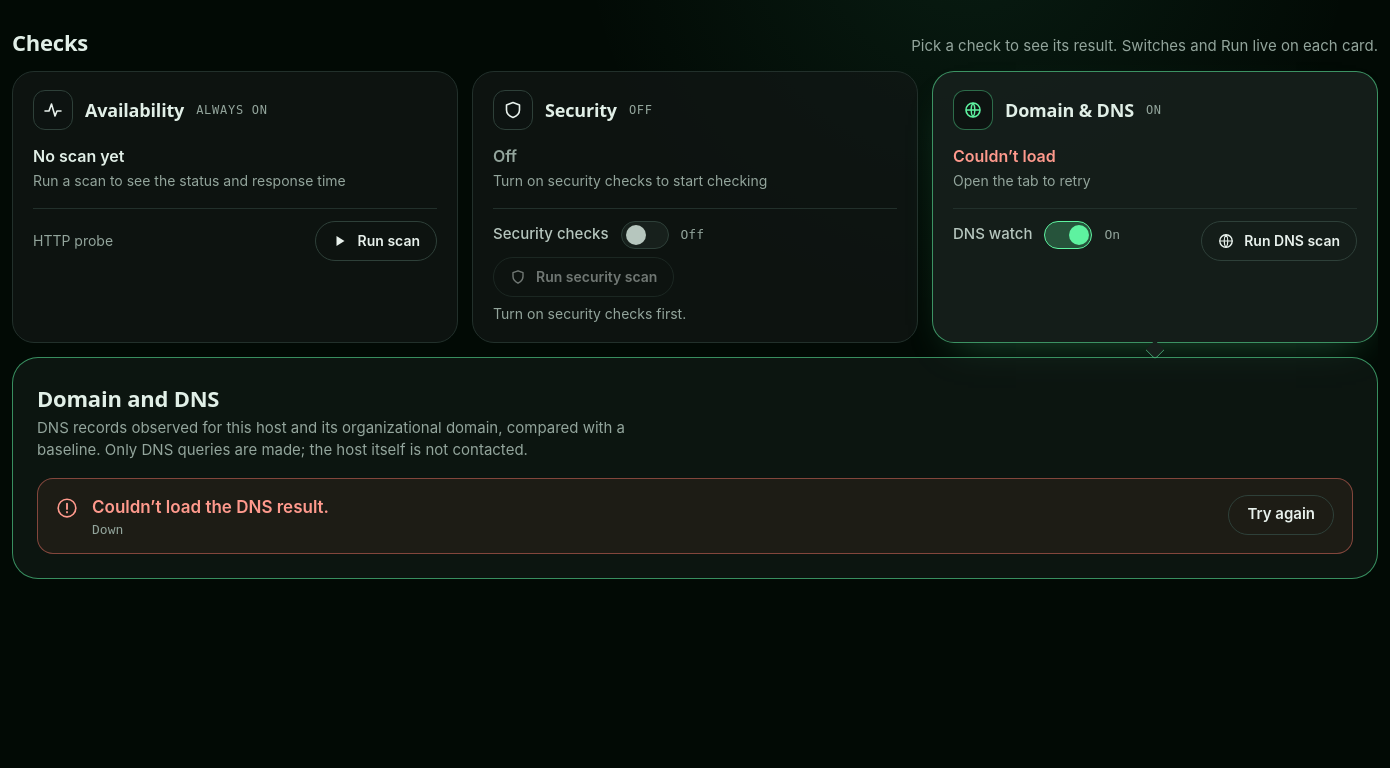
Test case: Domain and DNS section › offers a retry when the latest result cannot be loaded
The width and height of the screenshot is (1390, 768).
Expected: the text "Couldn’t load the DNS result." is shown, left=92, top=495, right=329, bottom=520
Click the button "Try again". click: (1281, 515)
box: left=1228, top=495, right=1334, bottom=535
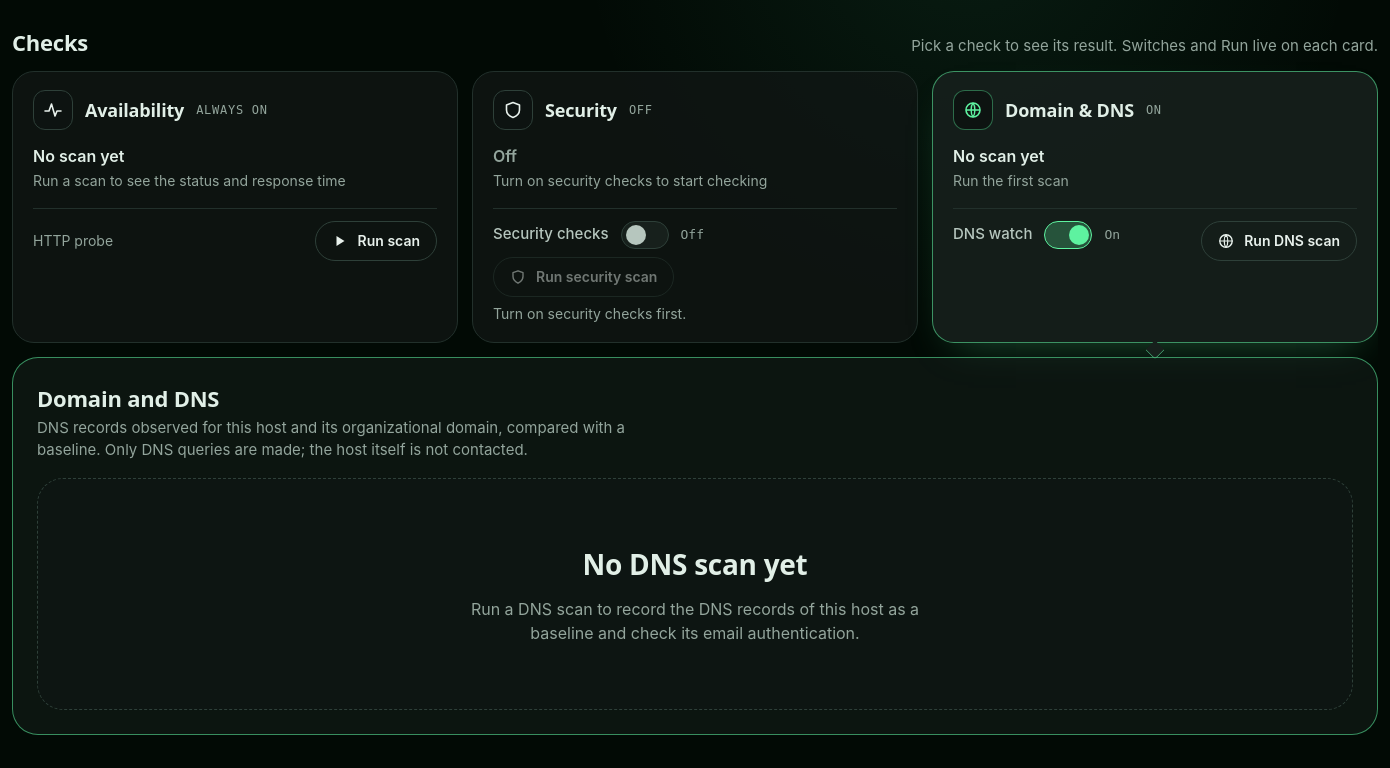
Expected: the heading "No DNS scan yet" is shown, left=582, top=543, right=807, bottom=585
